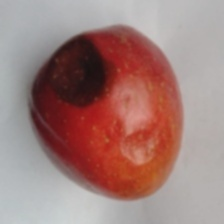apple: (61, 51, 207, 216)
